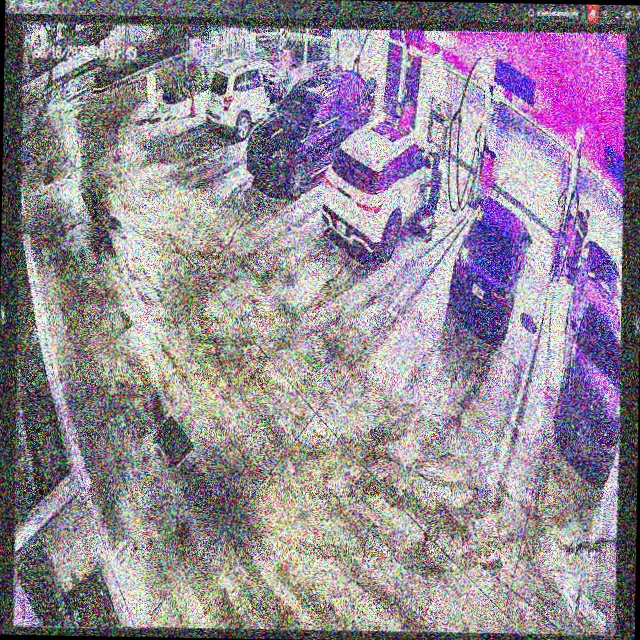Car: (323, 115, 441, 265), (244, 67, 373, 195), (448, 190, 534, 344)
